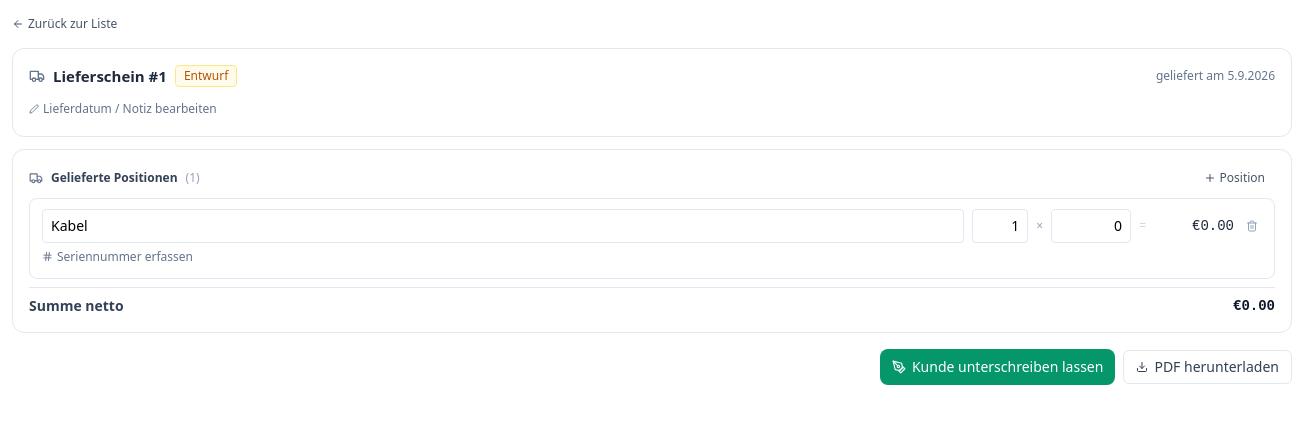
Test: DeliveryNoteDetail — serial capture › offers a reveal button on a non-serialised line and shows the input after click
expect the text "Lieferschein #1" is shown: met, box [53,65,167,88]
Click the button "Seriennummer erfassen" at [118, 256], box [42,248,193,264]
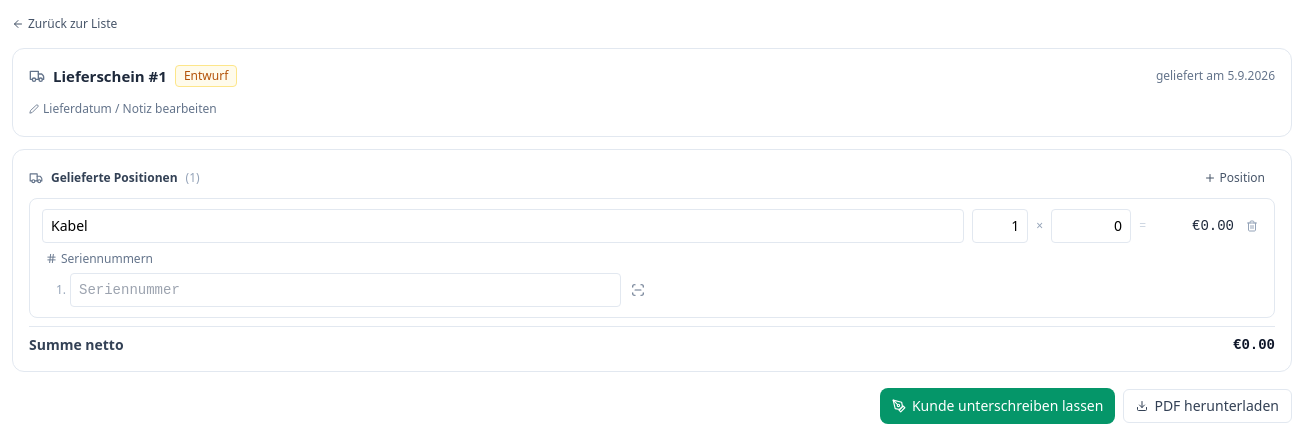
expect the field with placeholder "Seriennummer" is shown: met, box [70,272,621,306]
